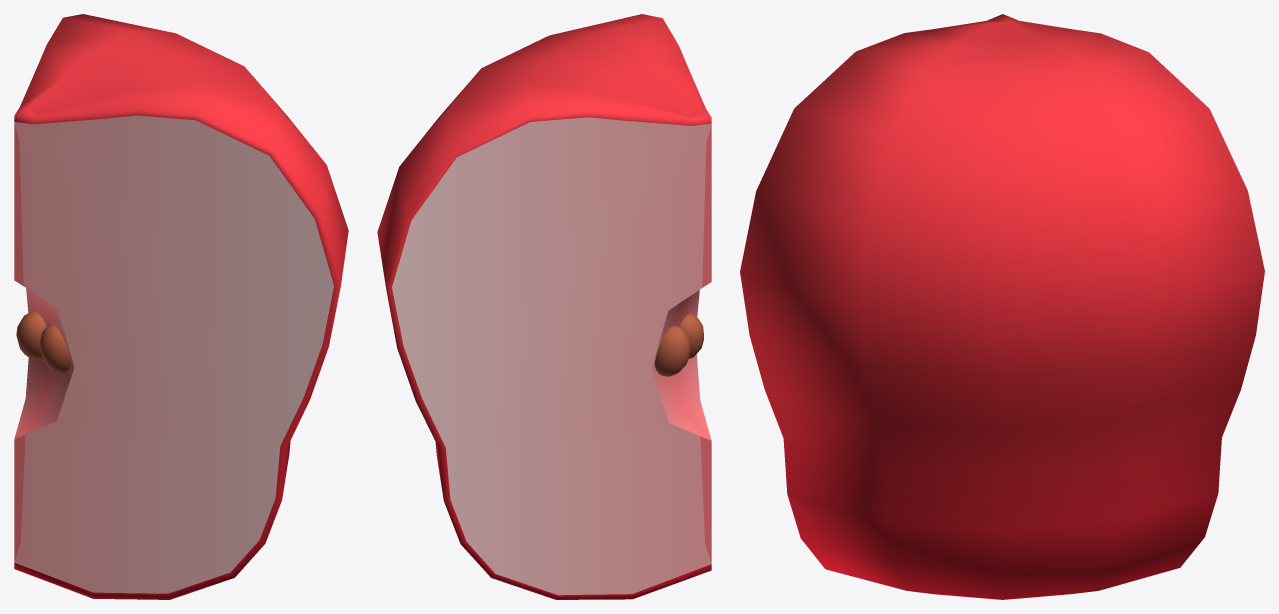
Rendered from Apple_V3_02.fbx.
3 views of the same model, side by side, from view 1: azimuth 30°, elevation 25°; view 2: azimuth 150°, elevation 25°; view 3: azimuth 270°, elevation 25° (orthographic). The views are drawn at different scales.
Visible parts, largest first — view 1: Apple_V3_02; view 2: Apple_V3_02; view 3: Apple_V3_02.
Part boxes in pixels (x1,y1,x2,y2): Apple_V3_02: (14, 14, 348, 599); Apple_V3_02: (377, 14, 711, 599); Apple_V3_02: (740, 14, 1264, 599).
Bounding box in the file's own units: 15.57 × 25.27 × 22.04.
